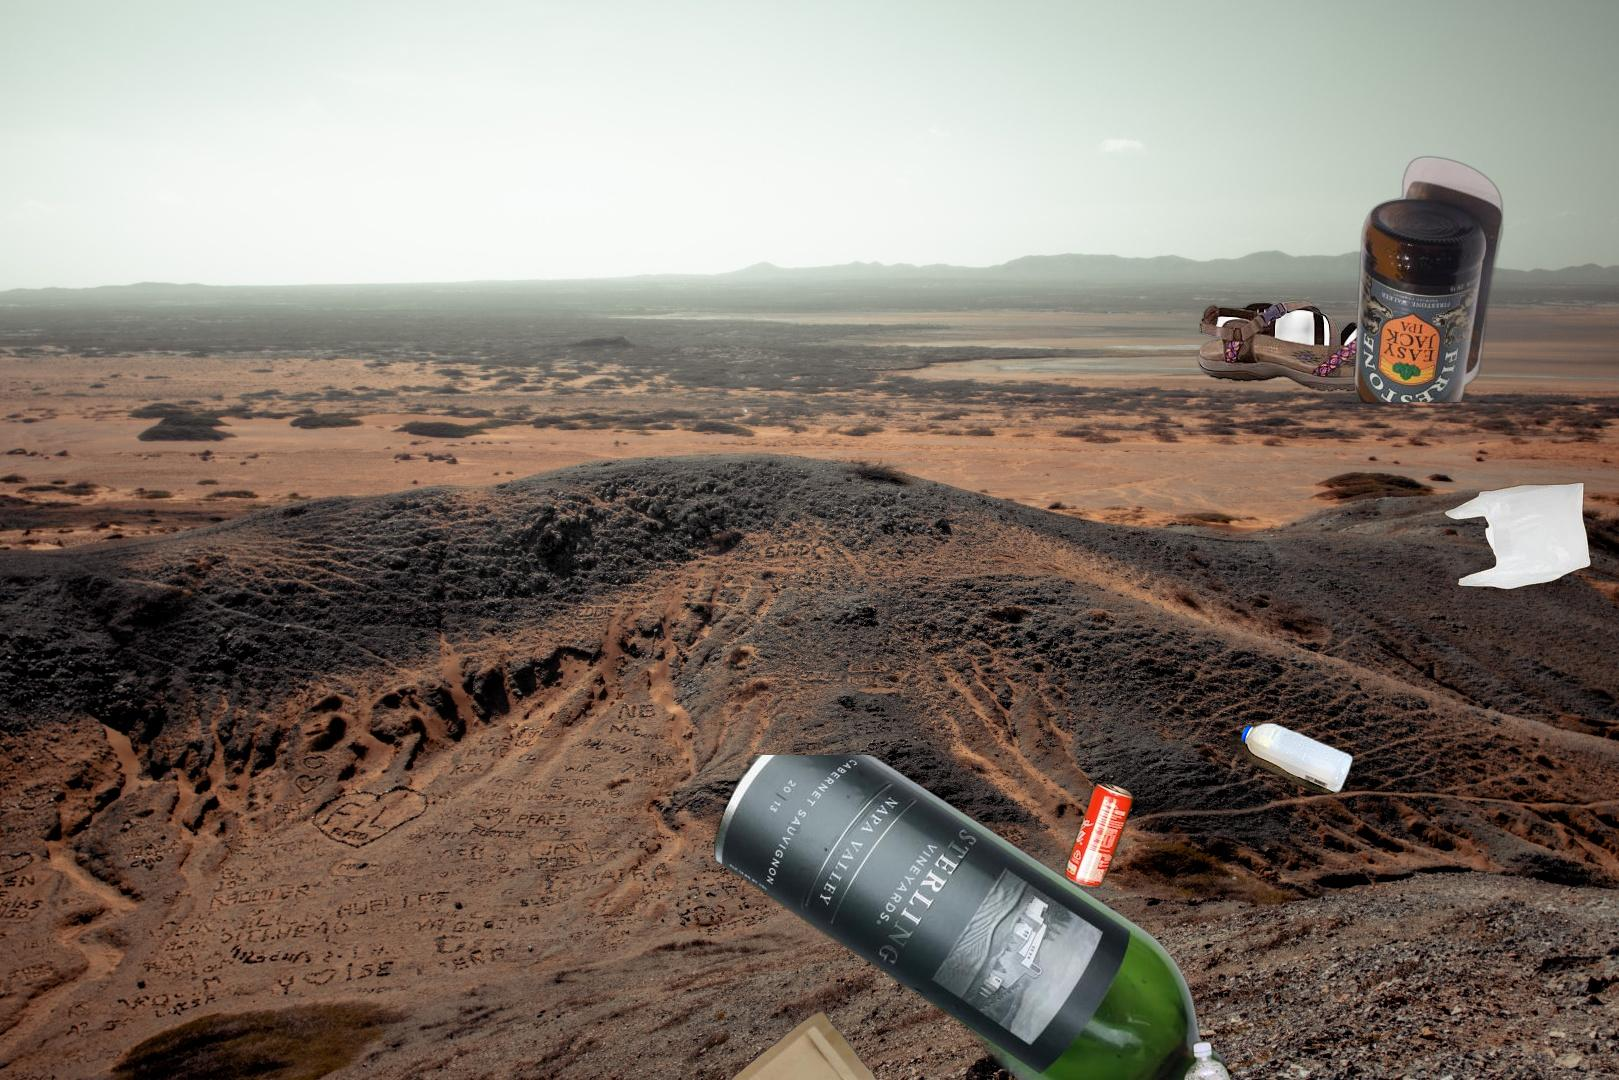glass: (714, 755, 1226, 1080), (1349, 153, 1507, 403)
metal-cans: (1061, 777, 1138, 893)
paper-bag: (705, 1008, 967, 1080)
plastic-bag: (1442, 481, 1592, 593)
plastic-bottles: (957, 1035, 1250, 1080), (1224, 716, 1357, 800)
shoes: (1195, 297, 1409, 395)
